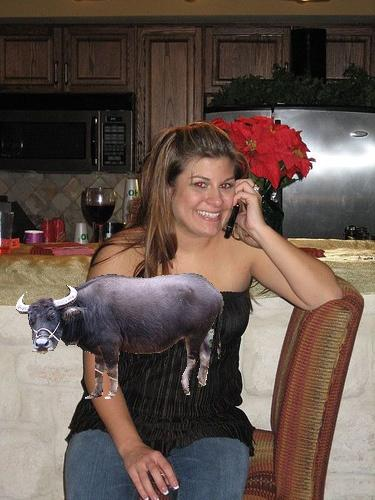tampered: (17, 274, 224, 399)
